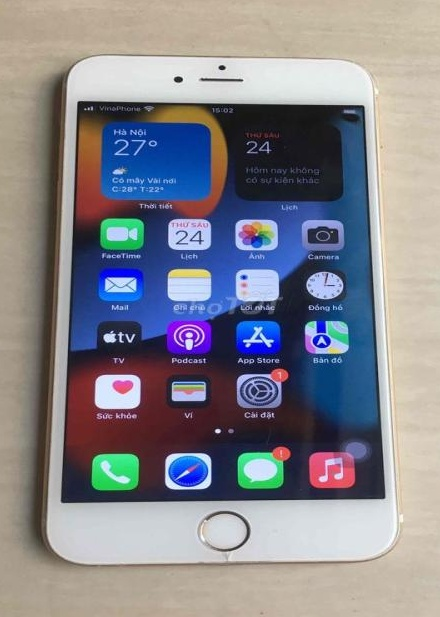screen_defect: (208, 543, 241, 569)
